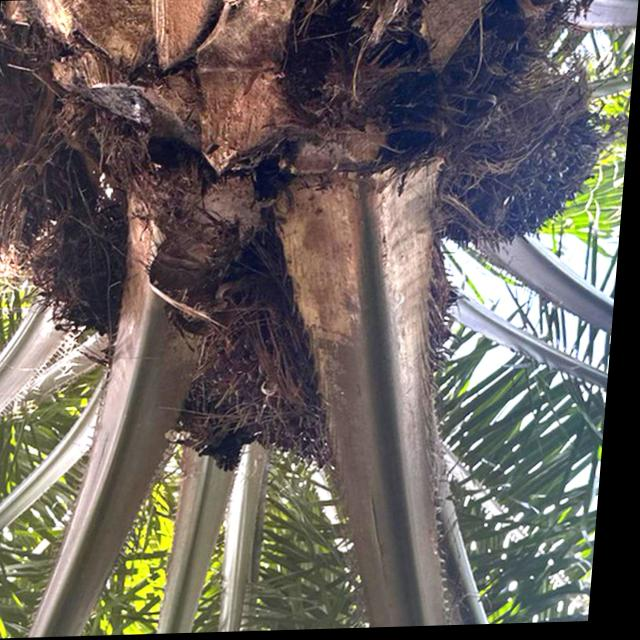ripe: (198, 291, 358, 476), (428, 121, 603, 266)
